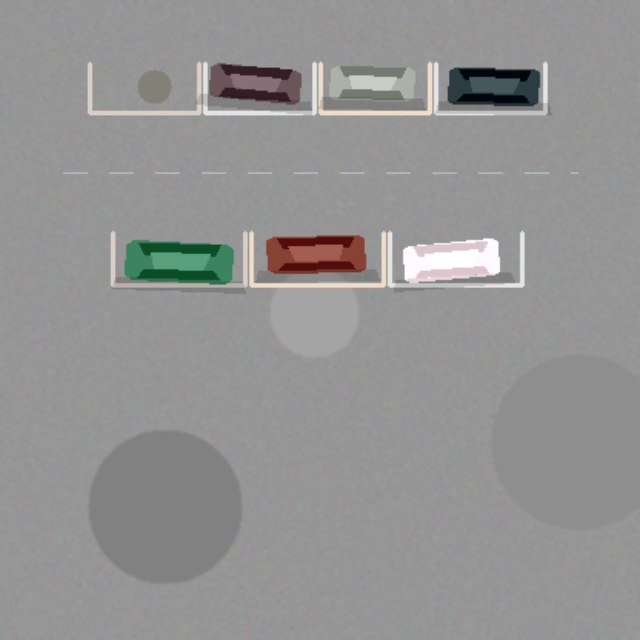space-empty: (89, 63, 198, 112)
space-occupied: (112, 232, 245, 285), (389, 232, 522, 285), (251, 232, 383, 285), (435, 63, 545, 112), (205, 63, 314, 112), (320, 63, 429, 112)
